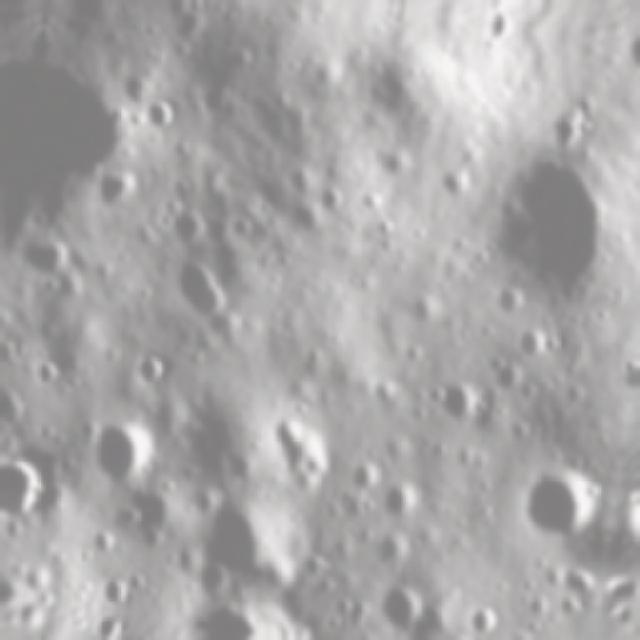crater: (464, 126, 639, 305), (195, 491, 292, 584), (517, 465, 601, 553), (79, 410, 163, 492), (254, 412, 340, 486), (166, 255, 240, 327), (0, 452, 62, 533), (14, 230, 72, 288), (375, 581, 432, 640), (432, 376, 483, 430), (91, 161, 140, 214), (128, 345, 177, 393), (138, 89, 182, 142), (280, 196, 329, 242), (367, 530, 415, 576), (380, 476, 426, 522), (163, 204, 209, 250), (431, 160, 472, 208), (492, 280, 532, 328), (402, 289, 444, 334), (346, 455, 386, 499), (511, 322, 551, 366), (202, 214, 242, 258), (0, 382, 34, 433), (461, 604, 509, 640), (490, 356, 530, 398), (92, 570, 132, 612), (556, 564, 599, 602), (87, 526, 124, 569), (545, 112, 584, 151), (376, 142, 412, 183), (296, 549, 335, 586), (33, 353, 65, 398), (552, 587, 590, 624), (116, 564, 156, 599), (368, 372, 402, 410), (269, 248, 305, 282), (228, 212, 262, 248), (396, 338, 430, 371), (0, 332, 26, 374), (372, 210, 405, 242), (124, 105, 151, 141), (424, 380, 453, 412), (430, 626, 496, 640), (482, 347, 511, 378), (181, 0, 214, 26), (329, 592, 358, 620), (318, 612, 347, 637), (429, 437, 453, 463), (202, 0, 229, 5)
